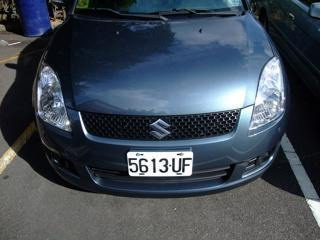plate: (125, 149, 194, 179)
